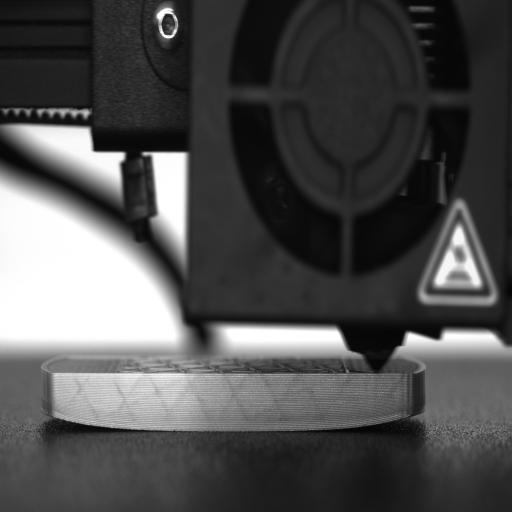warp: (353, 396, 432, 438), (33, 402, 97, 430)
